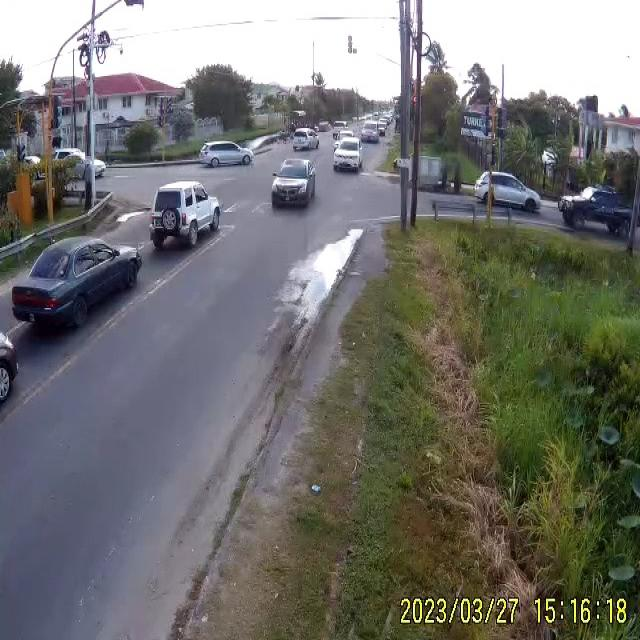car: (10, 237, 142, 336), (150, 181, 222, 250), (562, 188, 633, 235), (474, 172, 543, 213), (273, 157, 317, 206), (200, 143, 253, 169), (333, 140, 360, 173), (293, 132, 312, 151), (361, 125, 379, 143)
